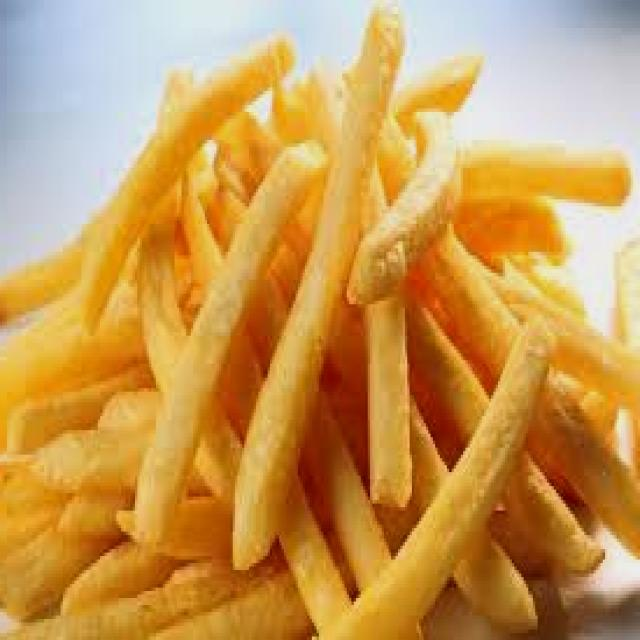kentang goreng: (0, 3, 640, 640)
